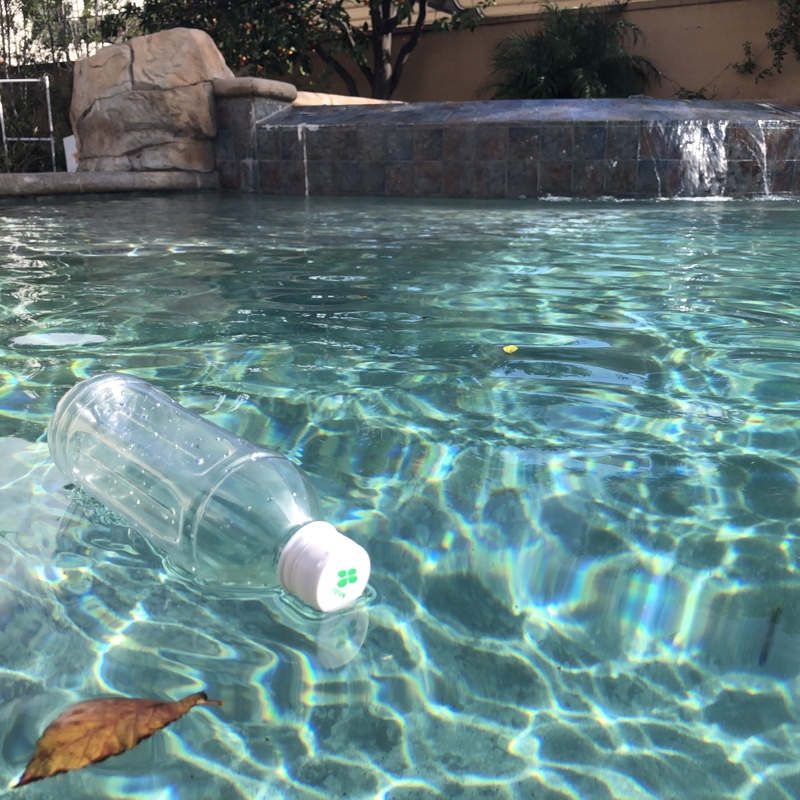Plastic Bottle: (47, 369, 374, 621)
